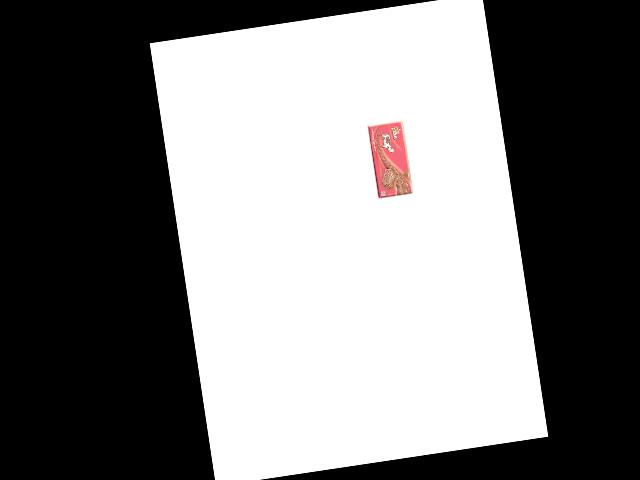chocolate: (374, 126, 421, 200)
